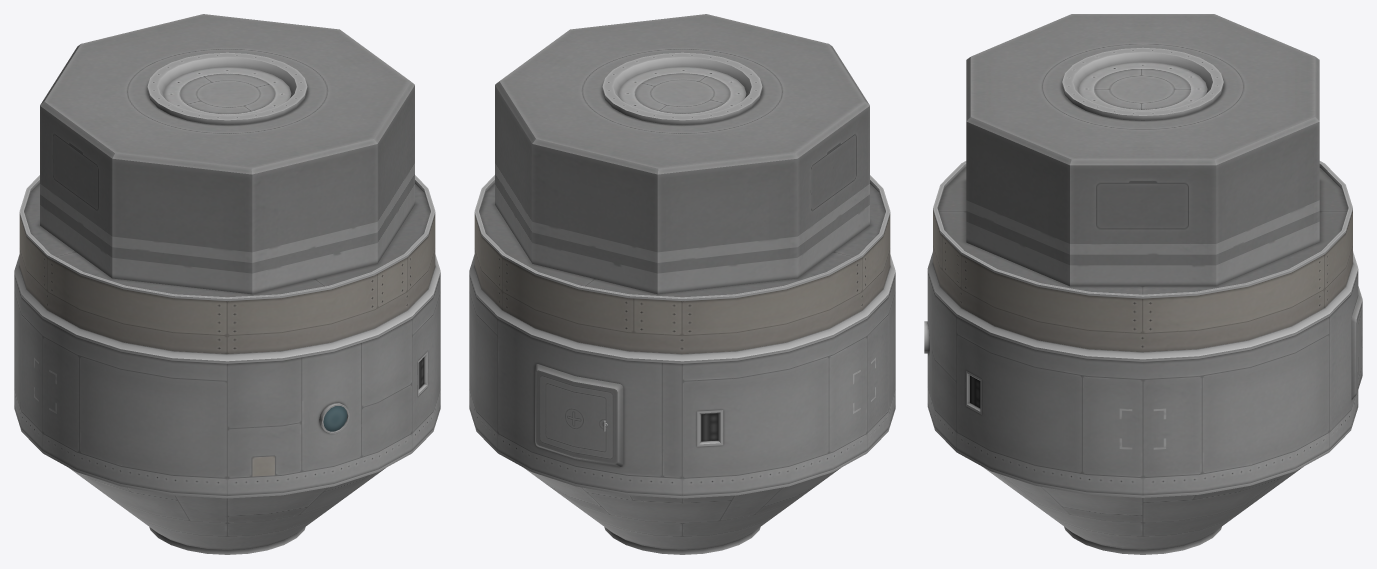
File: Acamar_Lab_1.obj
3 views of the same model, side by side, from view 1: azimuth 30°, elevation 25°; view 2: azimuth 150°, elevation 25°; view 3: azimuth 270°, elevation 25° (orthographic).
Visible parts, largest first — view 1: Acamar_Lab_1; view 2: Acamar_Lab_1; view 3: Acamar_Lab_1.
Part boxes in pixels (x1,y1,x2,y2): Acamar_Lab_1: (14, 14, 440, 554); Acamar_Lab_1: (469, 14, 895, 554); Acamar_Lab_1: (924, 14, 1362, 554).
Bounding box in the file's own units: 2.5 × 2.81 × 2.55.
